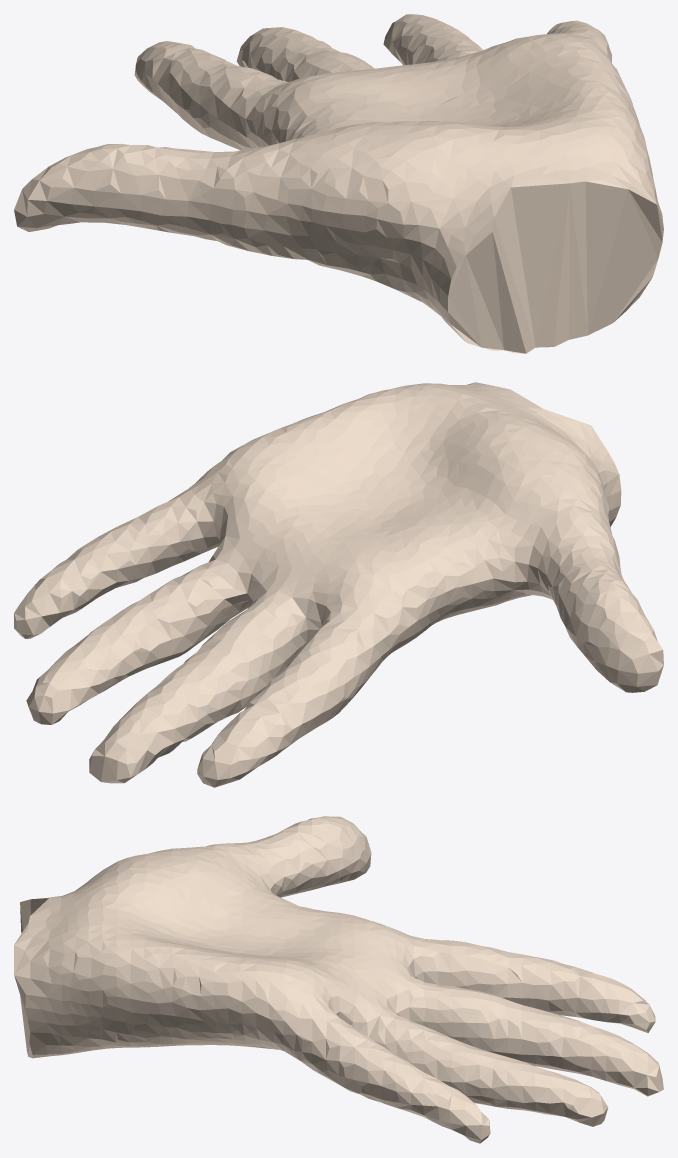
The model's file is hand_scan.glb.
The picture shows the model from 3 angles, top to bottom: view 1: azimuth 30°, elevation 25°; view 2: azimuth 150°, elevation 25°; view 3: azimuth 270°, elevation 25°; orthographic projection. The views are drawn at different scales.
Parts seen in each view (by area): view 1: Hand reduced faces solid body.STL; view 2: Hand reduced faces solid body.STL; view 3: Hand reduced faces solid body.STL.
Part boxes in pixels (x1,y1,x2,y2): Hand reduced faces solid body.STL: (14, 14, 663, 353); Hand reduced faces solid body.STL: (14, 382, 663, 787); Hand reduced faces solid body.STL: (14, 816, 663, 1143).
Bounding box in the file's own units: 0.2981 × 0.0908 × 0.3154.
